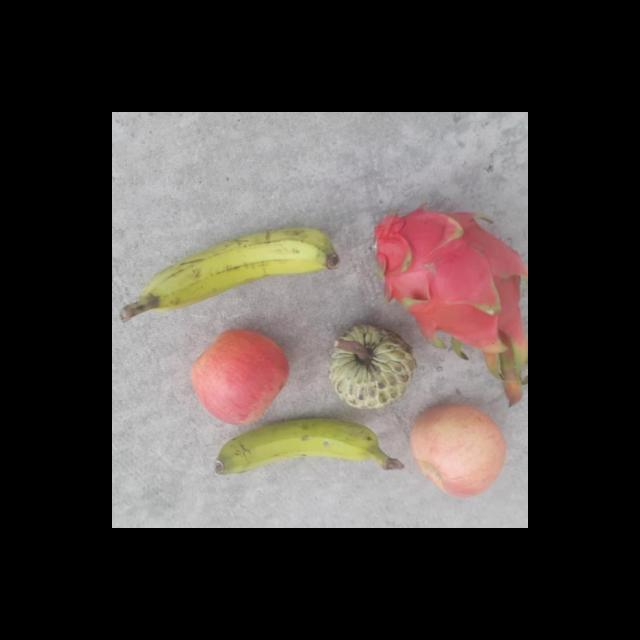Sakya fruit: (328, 323, 415, 410)
apple: (190, 328, 289, 427), (409, 404, 508, 499)
banana: (120, 223, 348, 322), (214, 418, 406, 476)
pitaya: (373, 202, 528, 408)
